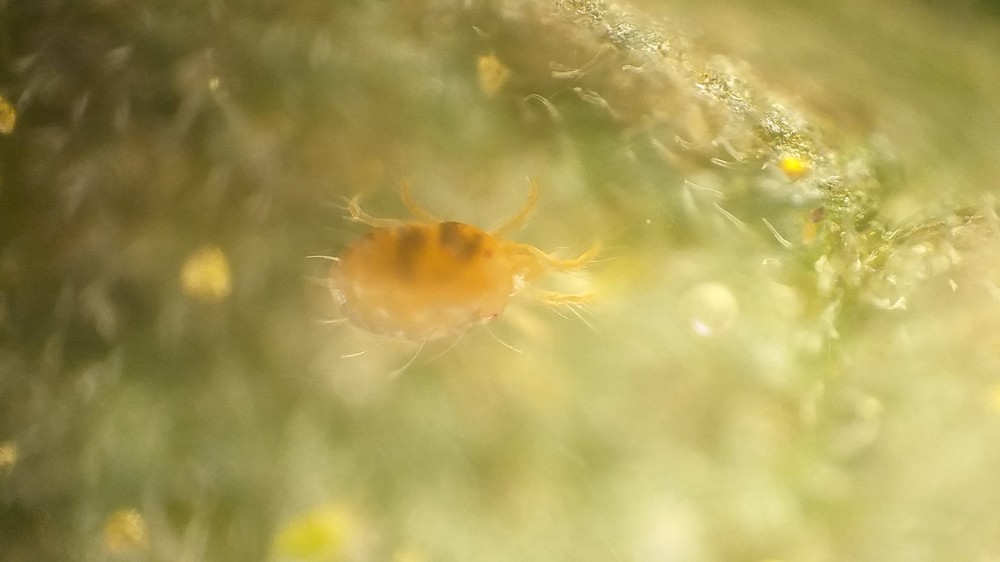Aracnido Rojo: (286, 159, 666, 392)
